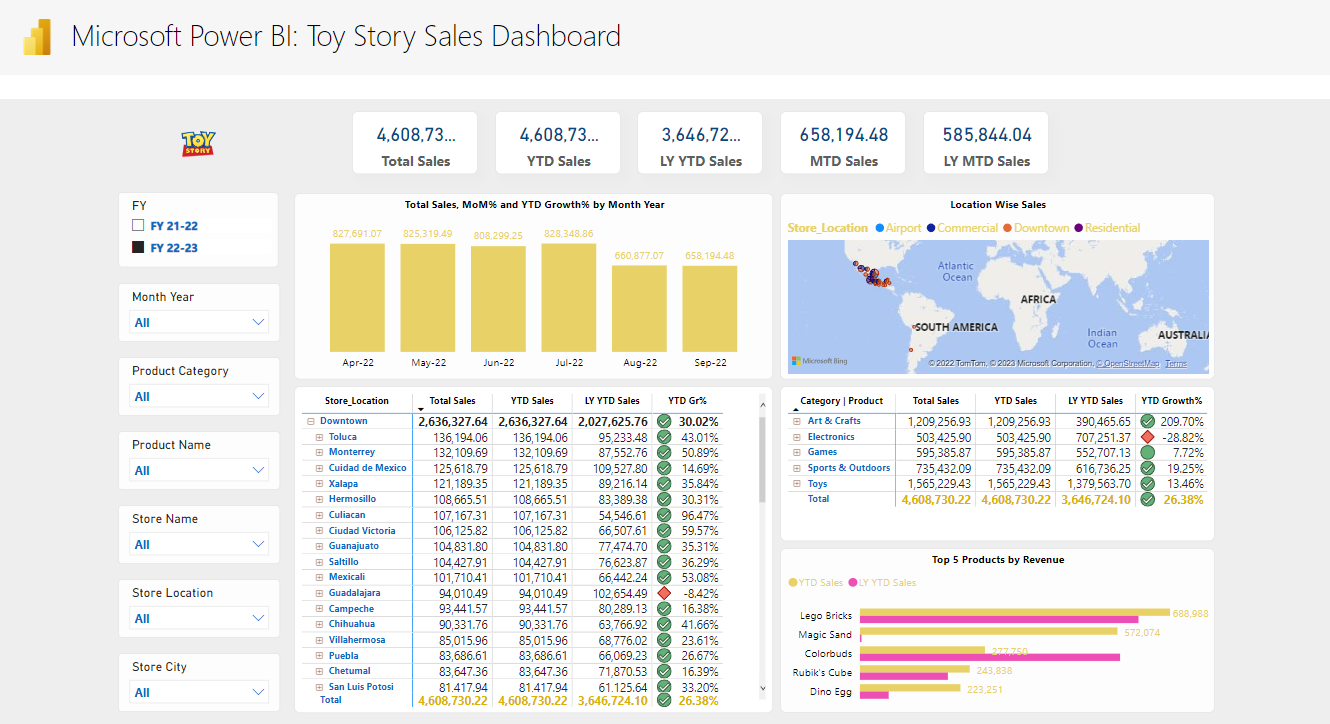

What the dashboard file says about the page in this screenshot:
{"tool":"powerbi","page":{"name":"Sales Analysis","canvas":[1280,720],"ordinal":0},"visuals":[{"type":"clusteredColumnChart","fields":{"Category":["Date.Month Year"],"Y":["Key Measures.Total Sales"]},"box":[213.6,108.5,552.4,215.3],"z":0},{"type":"slicer","fields":{"Values":["Date.FY"]},"box":[10,107.6,185.2,86.8],"z":1000},{"type":"pivotTable","fields":{"Rows":["sales.products.Product_Category","sales.products.Product_Name"],"Values":["Key Measures.Total Sales","Key Measures.YTD Sales","Key Measures.LY YTD Sales","Key Measures.YTD Growth%"]},"box":[772.7,330.4,500.7,178.6],"z":2000},{"type":"slicer","fields":{"Values":["Date.Month Year"]},"box":[10,211.4,186.9,68.4],"z":3000},{"type":"card","fields":{"Values":["Key Measures.Total Sales"]},"box":[280,13.4,145.2,73.4],"z":4000},{"type":"image","box":[78.5,29.5,49.8,43.9],"z":5000},{"type":"slicer","fields":{"Values":["products.Product_Category"]},"box":[10,296.8,186.9,68.4],"z":6000},{"type":"slicer","fields":{"Values":["products.Product_Name"]},"box":[10,382.2,186.9,68.4],"z":7000},{"type":"slicer","fields":{"Values":["stores.Store_Name"]},"box":[10,467.6,186.9,68.4],"z":8000},{"type":"slicer","fields":{"Values":["stores.Store_Location"]},"box":[10,552.9,186.9,68.4],"z":9000},{"type":"slicer","fields":{"Values":["stores.Store_City"]},"box":[10,638.3,186.9,68.4],"z":10000},{"type":"card","fields":{"Values":["Key Measures.YTD Sales"]},"box":[444.4,13.4,145.2,73.4],"z":11000},{"type":"card","fields":{"Values":["Key Measures.LY YTD Sales"]},"box":[608.8,13.4,145.2,73.4],"z":12000},{"type":"card","fields":{"Values":["Key Measures.MTD Sales"]},"box":[773.2,13.4,145.2,73.4],"z":13000},{"type":"card","fields":{"Values":["Key Measures.LY MTD Sales"]},"box":[937.6,13.4,145.2,73.4],"z":14000},{"type":"map","title":"Location Wise Sales","fields":{"Category":["stores.Store_City"],"Size":["Key Measures.Total Sales"],"Series":["stores.Store_Location"]},"box":[772.7,108.5,500.7,215.3],"z":17000},{"type":"pivotTable","fields":{"Values":["Key Measures.Total Sales","Key Measures.YTD Sales","Key Measures.LY YTD Sales","Key Measures.YTD Growth%"],"Rows":["stores.Store_Location","stores.Store_City","stores.Store_Name"]},"box":[213.6,330.4,552.4,377.2],"z":18000},{"type":"clusteredBarChart","title":"Top 5 Products by Revenue","fields":{"Category":["products.Product_Name"],"Y":["Key Measures.YTD Sales","Key Measures.LY YTD Sales"]},"box":[772.7,517.3,500.7,190.2],"z":19000}]}

Visuals, with their boxes on the page's 1280x720 design canvas (x1, y1, x2, y2). These are canvas units, not pixel positions in the 1330x724 screenshot, which may show the page scaled, cropped or inside an application window:
clusteredColumnChart - Date.Month Year x Key Measures.Total Sales: [214, 108, 766, 324]
slicer - Date.FY: [10, 108, 195, 194]
pivotTable - sales.products.Product_Category x sales.products.Product_Name: [773, 330, 1273, 509]
slicer - Date.Month Year: [10, 211, 197, 280]
card - Key Measures.Total Sales: [280, 13, 425, 87]
image: [78, 30, 128, 73]
slicer - products.Product_Category: [10, 297, 197, 365]
slicer - products.Product_Name: [10, 382, 197, 451]
slicer - stores.Store_Name: [10, 468, 197, 536]
slicer - stores.Store_Location: [10, 553, 197, 621]
slicer - stores.Store_City: [10, 638, 197, 707]
card - Key Measures.YTD Sales: [444, 13, 590, 87]
card - Key Measures.LY YTD Sales: [609, 13, 754, 87]
card - Key Measures.MTD Sales: [773, 13, 918, 87]
card - Key Measures.LY MTD Sales: [938, 13, 1083, 87]
"Location Wise Sales" map: [773, 108, 1273, 324]
pivotTable - Key Measures.Total Sales x Key Measures.YTD Sales: [214, 330, 766, 708]
"Top 5 Products by Revenue" clusteredBarChart: [773, 517, 1273, 708]
